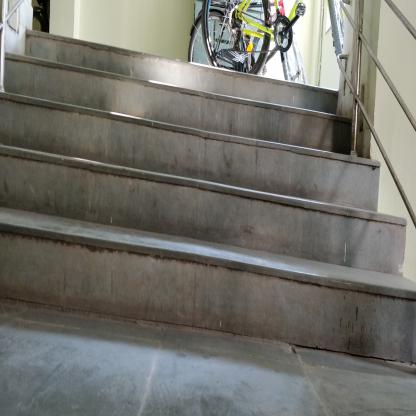stairs: (16, 74, 319, 329)
